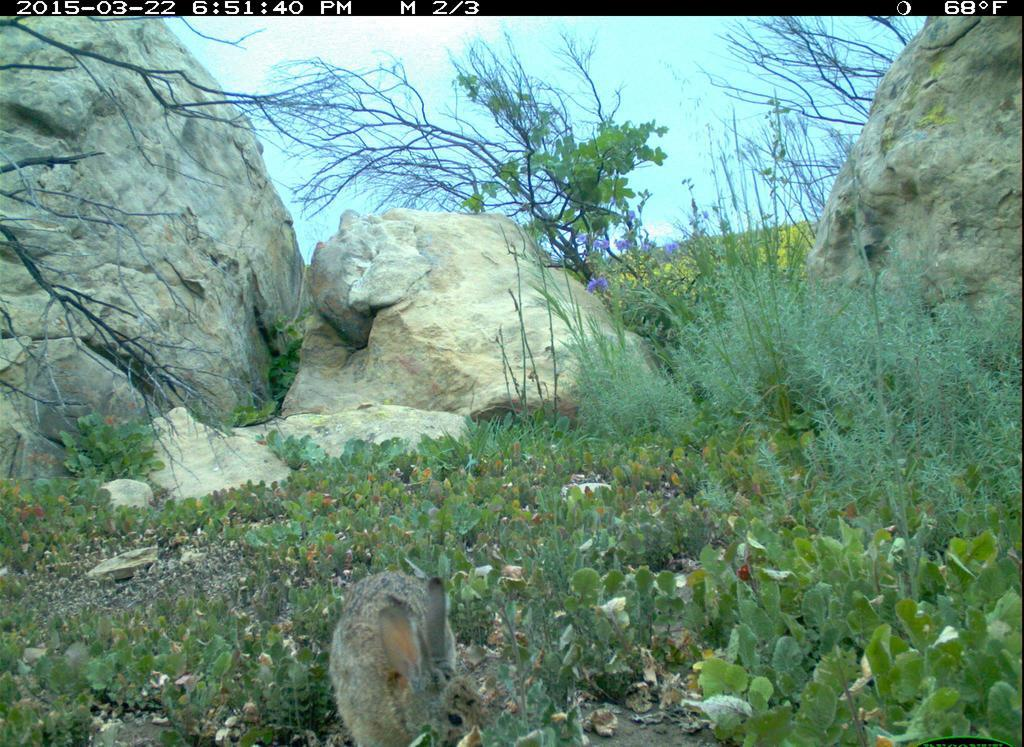rabbit: (310, 547, 516, 747)
